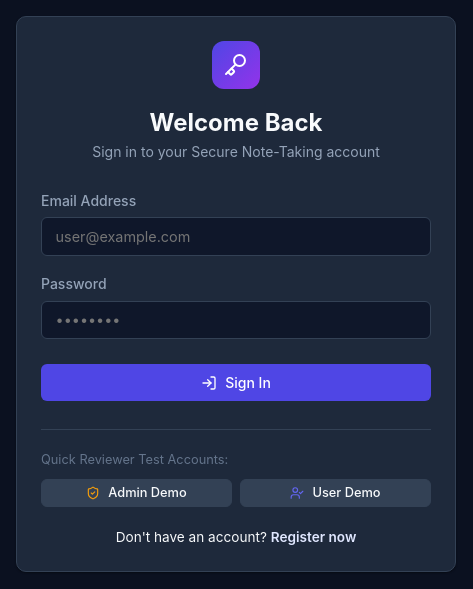
Test case: LoginPage Component › should auto-fill credentials when clicking Quick Demo buttons
Step 1. Click the button "Admin Demo" → (136,493), box x1=41 y1=479 x2=232 y2=507
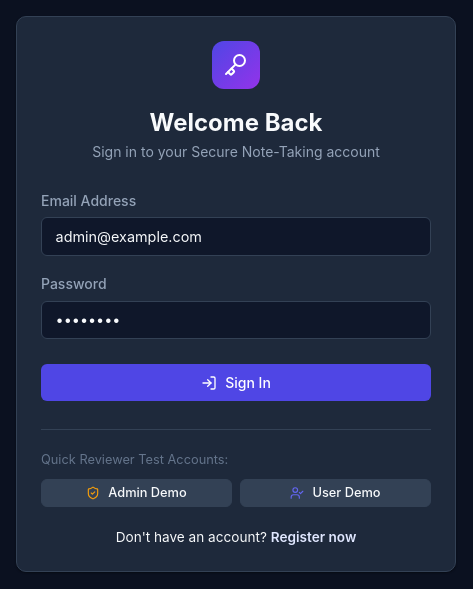
Result: the field with placeholder "user@example.com" holds "admin@example.com" at x1=41 y1=217 x2=431 y2=256
Result: the password field with placeholder "••••••••" holds "admin123" at x1=41 y1=301 x2=431 y2=339
